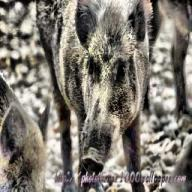boar: (33, 0, 155, 191)
